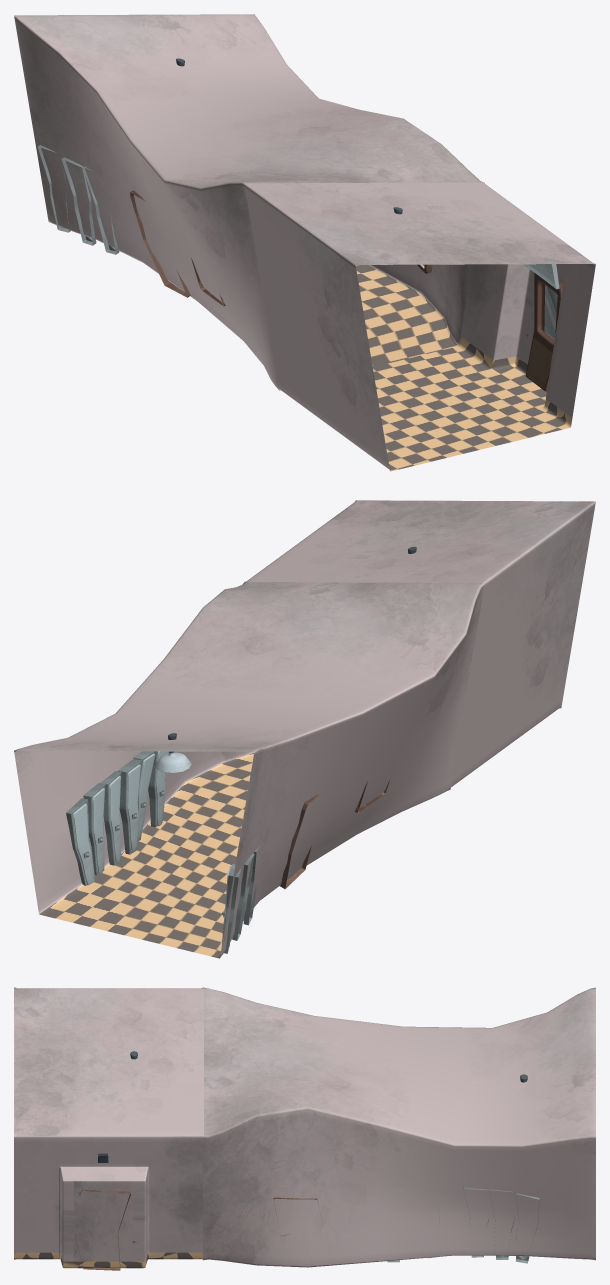
Rendered from corridor_2_pivot.fbx.
3 renders of one model, top to bottom at view 1: azimuth 30°, elevation 25°; view 2: azimuth 150°, elevation 25°; view 3: azimuth 270°, elevation 25°, orthographic. The views are drawn at different scales.
Parts seen in each view (by area): view 1: polySurface74; view 2: polySurface74; view 3: polySurface74.
Part boxes in pixels (box(x1,y1,x2,y2)): polySurface74: box(14, 14, 595, 471); polySurface74: box(14, 500, 595, 958); polySurface74: box(14, 987, 595, 1270).
Size of the model in its own units: 546 by 425 by 1187.
Materials: 8 (8 with a texture image).
